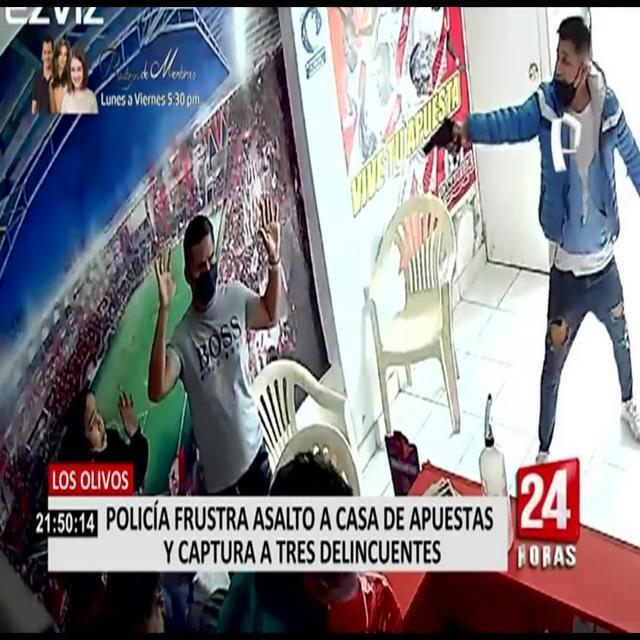weapon: (415, 106, 463, 180)
